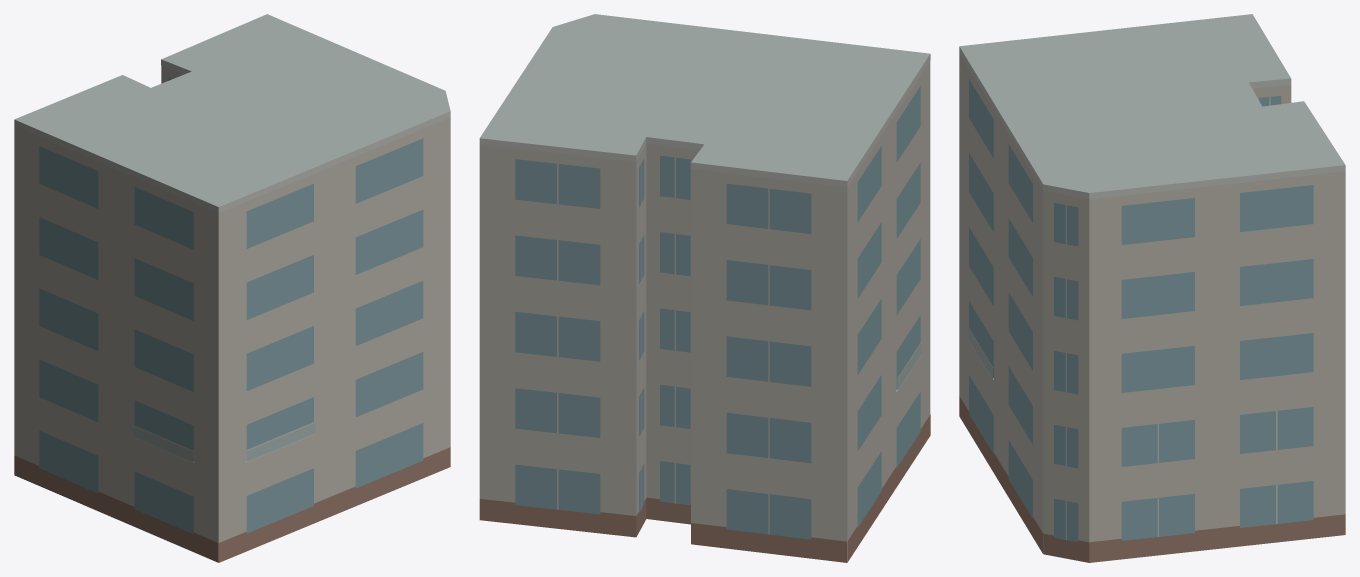
The model's file is survey-upis-32704946.glb.
The picture shows the model from 3 angles, left to right: view 1: azimuth 30°, elevation 25°; view 2: azimuth 150°, elevation 25°; view 3: azimuth 270°, elevation 25°; orthographic projection. The views are drawn at different scales.
Parts seen in each view (by area): view 1: survey-upis-32704946.tmp; view 2: survey-upis-32704946.tmp; view 3: survey-upis-32704946.tmp.
Part boxes in pixels (bbox=[...]): survey-upis-32704946.tmp: bbox=[14, 14, 450, 562]; survey-upis-32704946.tmp: bbox=[479, 14, 930, 562]; survey-upis-32704946.tmp: bbox=[959, 14, 1345, 562].
Bounding box in the file's own units: 14.85 × 14.3 × 13.55.
